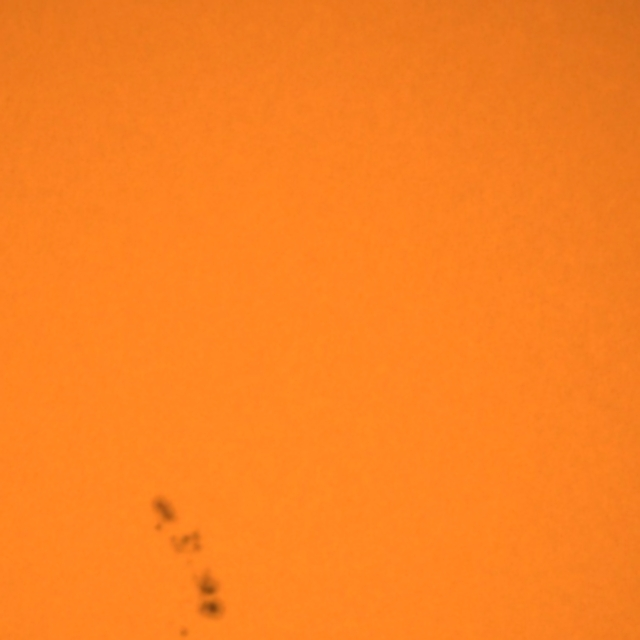sunspot: (120, 489, 206, 561), (192, 569, 231, 626)
